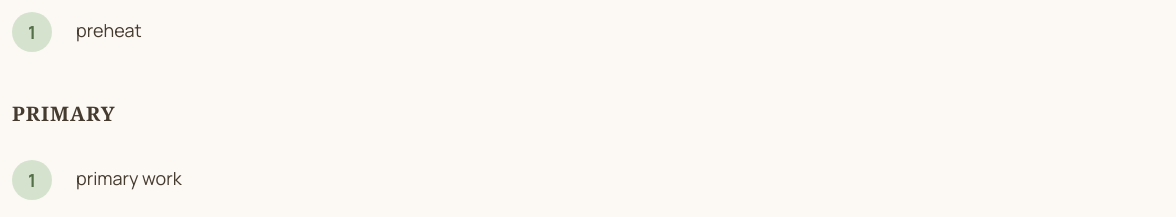
it: StepsOrSections › renders a heading for a section named "Primary" but none for un-sectioned steps
Expected: the headings read "Primary", in this order, top-left (12, 100), bottom-right (116, 127)
Click the button "1 preheat".
click(32, 32)  # box top-left (12, 12), bottom-right (1164, 52)
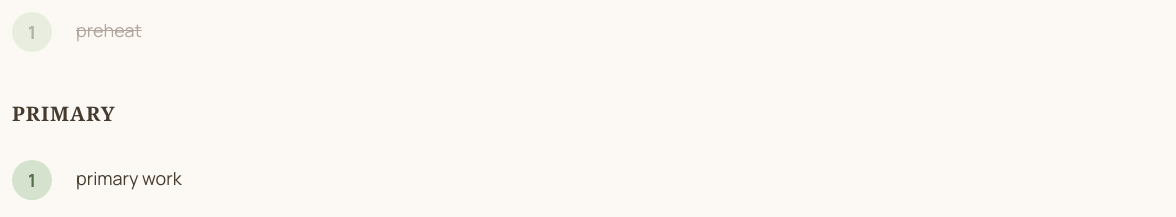
Expected: the button "1 preheat" is pressed, top-left (12, 12), bottom-right (1164, 52)
